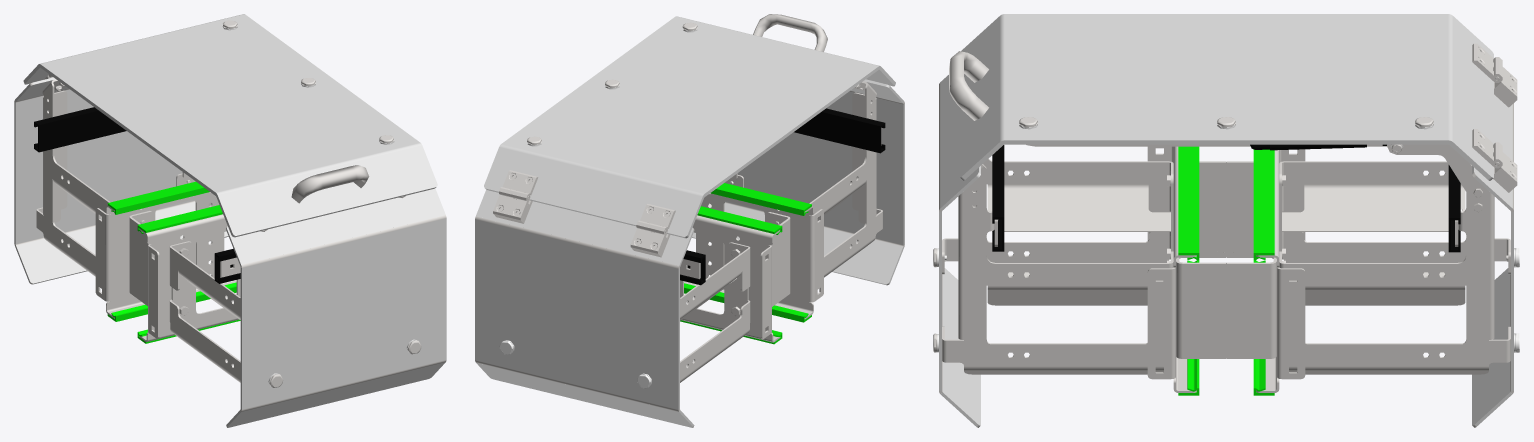
3 renders of one model, left to right at view 1: azimuth 30°, elevation 25°; view 2: azimuth 150°, elevation 25°; view 3: azimuth 270°, elevation 25°, orthographic. The views are drawn at different scales.
Visible parts, largest first — view 1: glass, base; view 2: glass, base; view 3: base, glass.
Part boxes in pixels (x1=…): glass: x1=14, y1=14, x2=446, y2=427; base: x1=14, y1=20, x2=446, y2=411; glass: x1=475, y1=16, x2=904, y2=427; base: x1=475, y1=14, x2=904, y2=427; base: x1=933, y1=43, x2=1519, y2=427; glass: x1=939, y1=14, x2=1513, y2=427.
Bounding box in the file's own units: 0.375 × 0.4103 × 0.726.
Materials: 1 (1 with a texture image).
